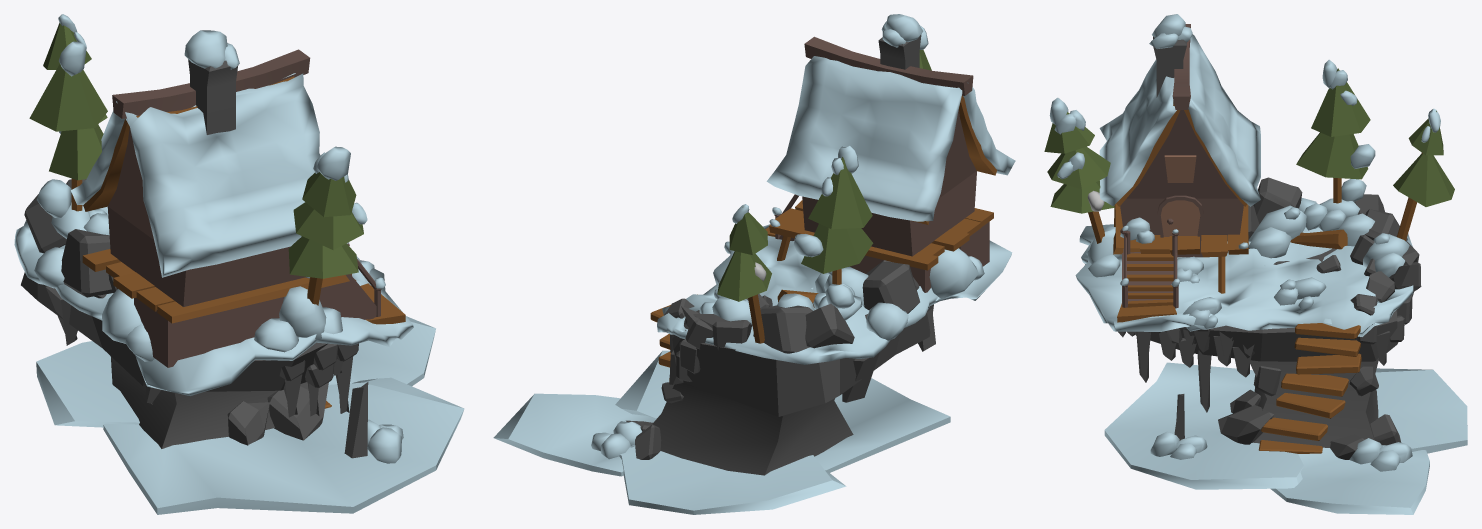
Rendered from snow.fbx.
3 views of the same model, side by side, from view 1: azimuth 30°, elevation 25°; view 2: azimuth 150°, elevation 25°; view 3: azimuth 270°, elevation 25° (orthographic). The views are drawn at different scales.
Parts seen in each view (by area): view 1: pSphere7; view 2: pSphere7; view 3: pSphere7.
Part boxes in pixels (x1,y1,x2,y2): pSphere7: [14, 14, 464, 514]; pSphere7: [493, 14, 1015, 514]; pSphere7: [1044, 14, 1467, 514].
Size of the model in its own units: 190 by 208 by 208.
